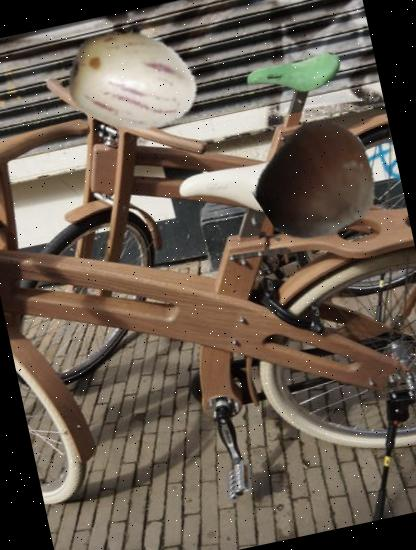Nut: (245, 111, 387, 252)
Pepino: (53, 0, 210, 157)
